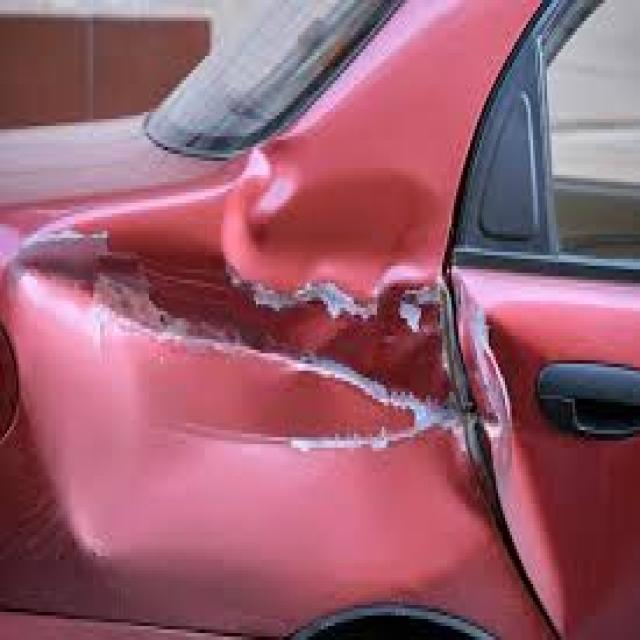Dent: (4, 217, 455, 596), (177, 136, 454, 313), (455, 257, 581, 640)
